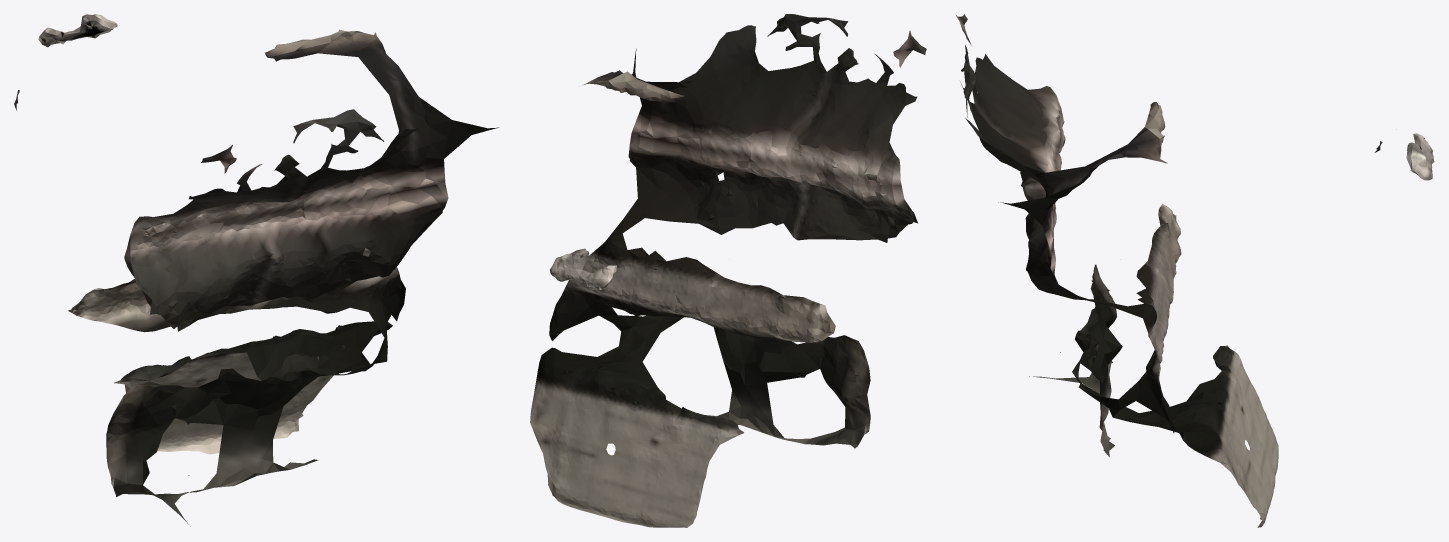
File: texturedMesh.obj
3 views of the same model, side by side, from view 1: azimuth 30°, elevation 25°; view 2: azimuth 150°, elevation 25°; view 3: azimuth 270°, elevation 25° (orthographic). The views are drawn at different scales.
Visible parts, largest first — view 1: TexturedMesh; view 2: TexturedMesh; view 3: TexturedMesh.
Part boxes in pixels (x1=…): TexturedMesh: x1=14, y1=14, x2=499, y2=526; TexturedMesh: x1=530, y1=14, x2=926, y2=527; TexturedMesh: x1=956, y1=14, x2=1434, y2=527.
Bounding box in the file's own units: 1.1 × 1.46 × 1.52.
1 material, 1 textured.
